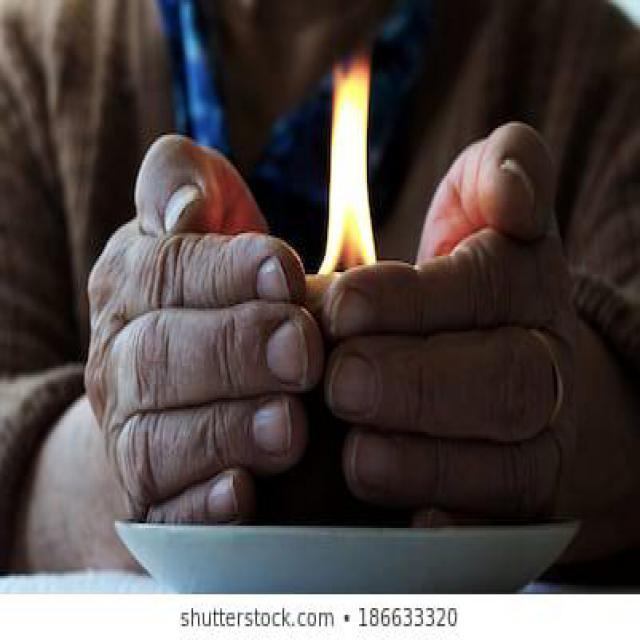Fire: (317, 59, 377, 270)
